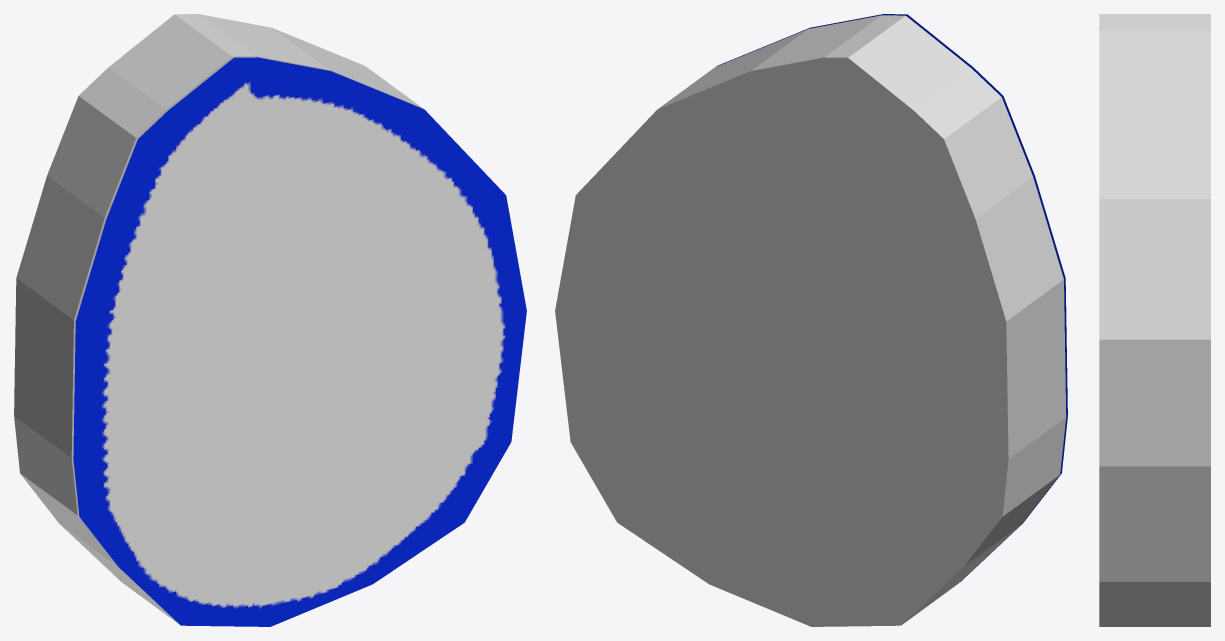
3 renders of one model, left to right at view 1: azimuth 30°, elevation 25°; view 2: azimuth 150°, elevation 25°; view 3: azimuth 270°, elevation 25°, orthographic. The views are drawn at different scales.
Visible parts, largest first — view 1: In3_1, In3_0; view 2: In3_0, In3_1; view 3: In3_0.
Part boxes in pixels (x1,y1,x2,y2): In3_1: (73, 57, 526, 626); In3_0: (14, 14, 423, 623); In3_0: (555, 15, 1066, 626); In3_1: (716, 14, 1067, 581); In3_0: (1099, 14, 1210, 626).
Size of the model in its own units: 2.27 by 2.77 by 0.515.
Materials: 2 (1 with a texture image).
